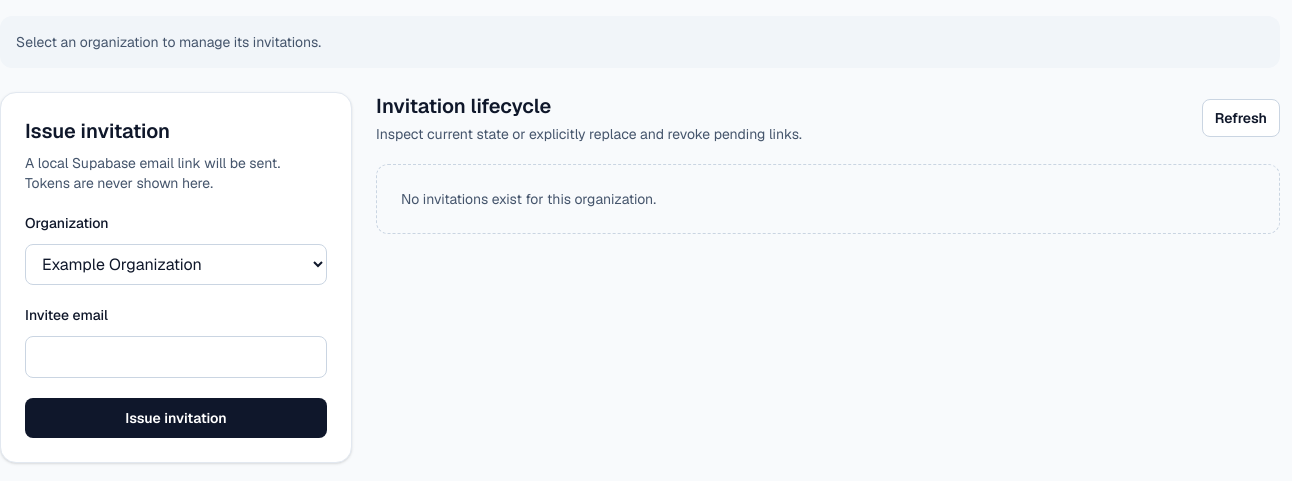
InvitationManager › announces lifecycle conflicts without exposing server details
Expected: the text "No invitations exist for this organization." is shown, [376,164,1280,234]
Type "client@example.test" into the field labelled "Invitee email" at {"x": 176, "y": 357}, box [25,336,327,378]
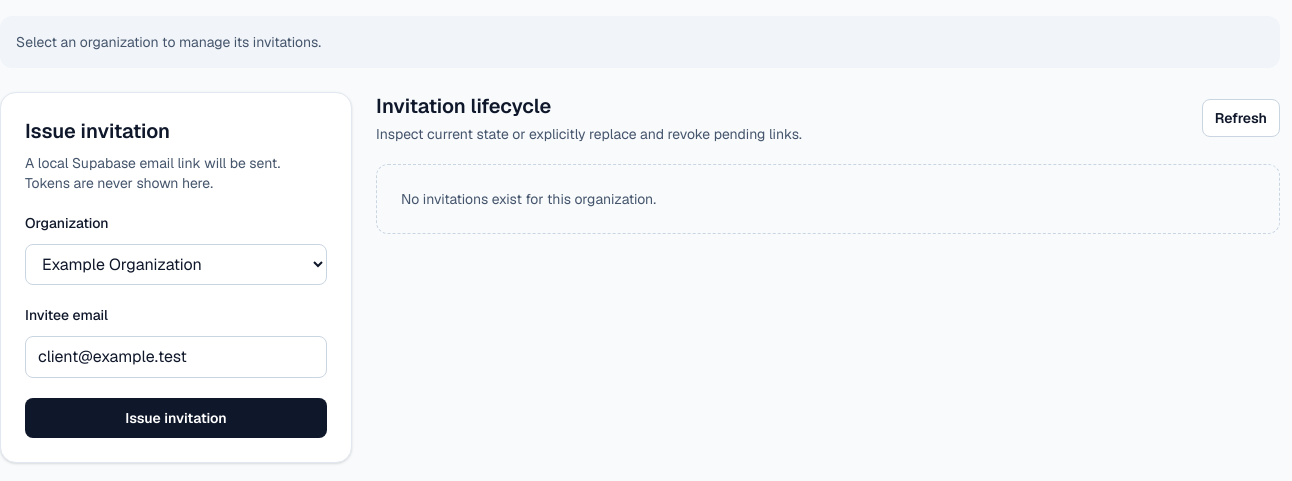
Submit the form "Issue invitation", box [0,92,352,463]
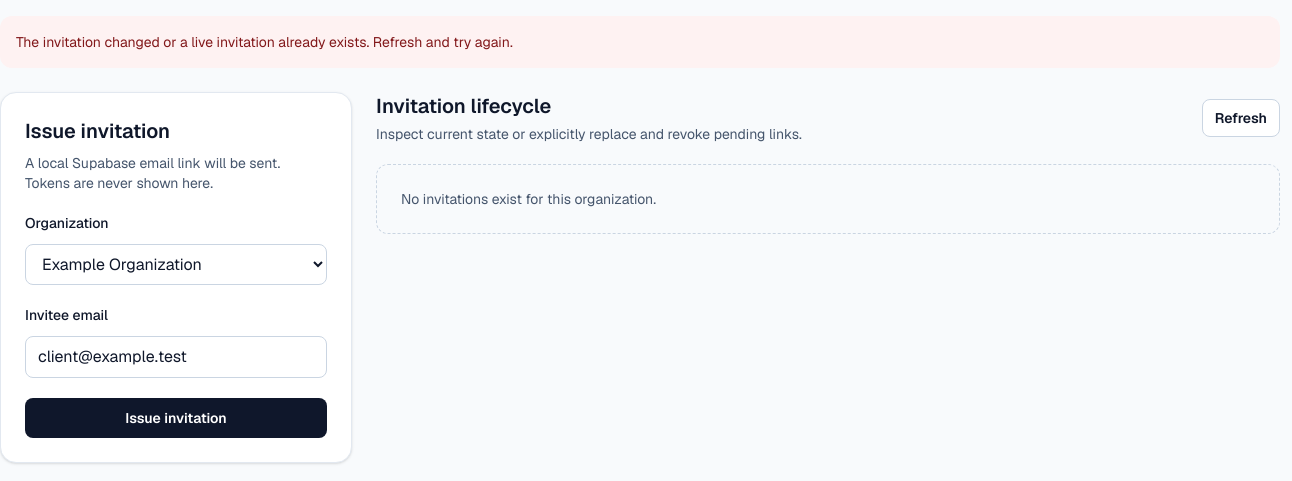
Expected: the message does not show "database detail", [0,16,1280,68]
Now the message shows "The invitation changed or a live invitation already exists.", box [16,33,513,51]
